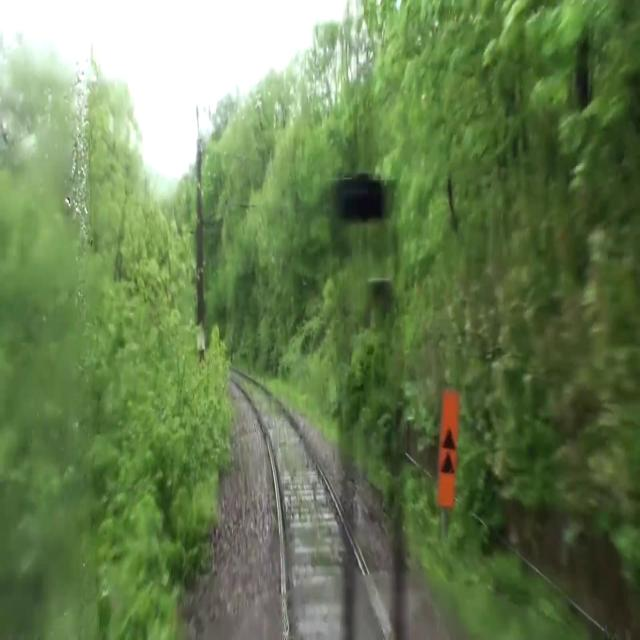rail-track: (205, 359, 390, 639)
